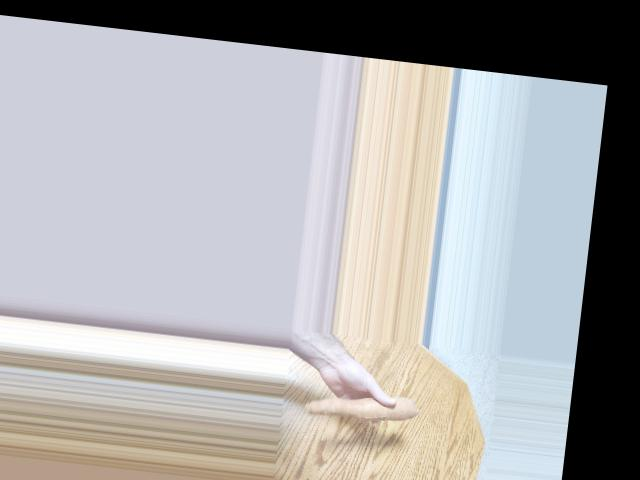sweet_potato: (299, 389, 416, 428)
